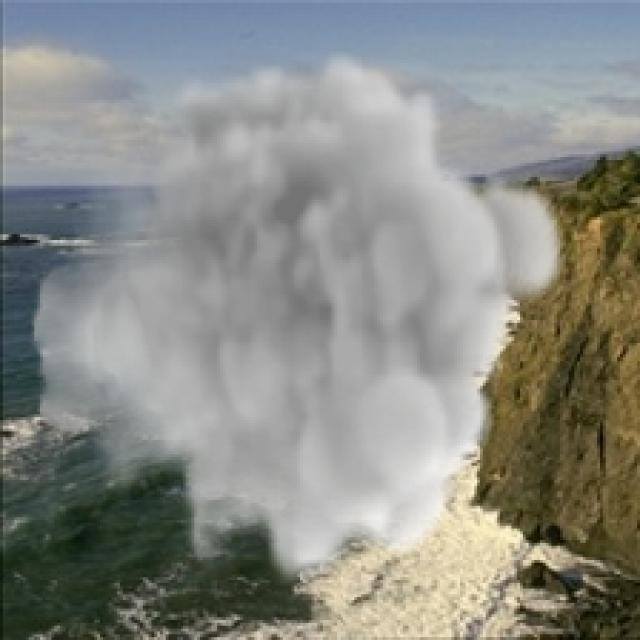smoke: (29, 51, 572, 586)
